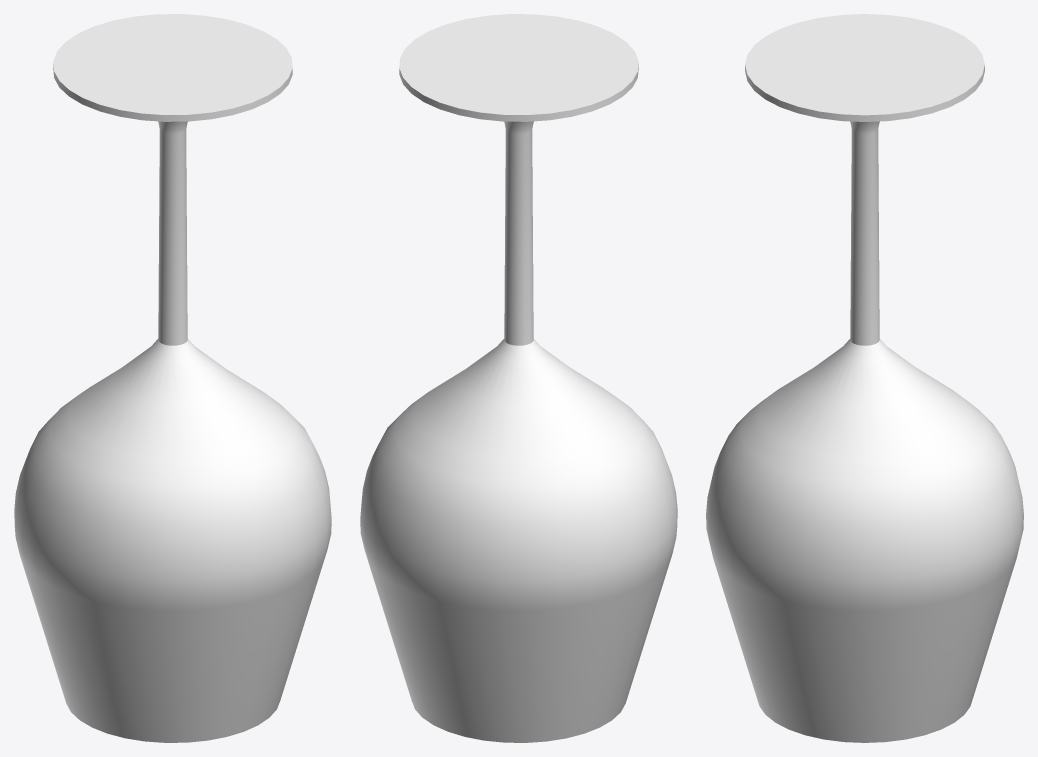
The model's file is redwine 2.fbx.
3 views of the same model, side by side, from view 1: azimuth 30°, elevation 25°; view 2: azimuth 150°, elevation 25°; view 3: azimuth 270°, elevation 25° (orthographic).
Visible parts, largest first — view 1: red wine; view 2: red wine; view 3: red wine.
Boxes of the visible parts, x1,y1,x2,y2 form: red wine: (14,14,331,742); red wine: (360,14,677,742); red wine: (706,14,1023,742).
Size of the model in its own units: 14.78 by 32.47 by 14.78.
1 material, 1 textured.
